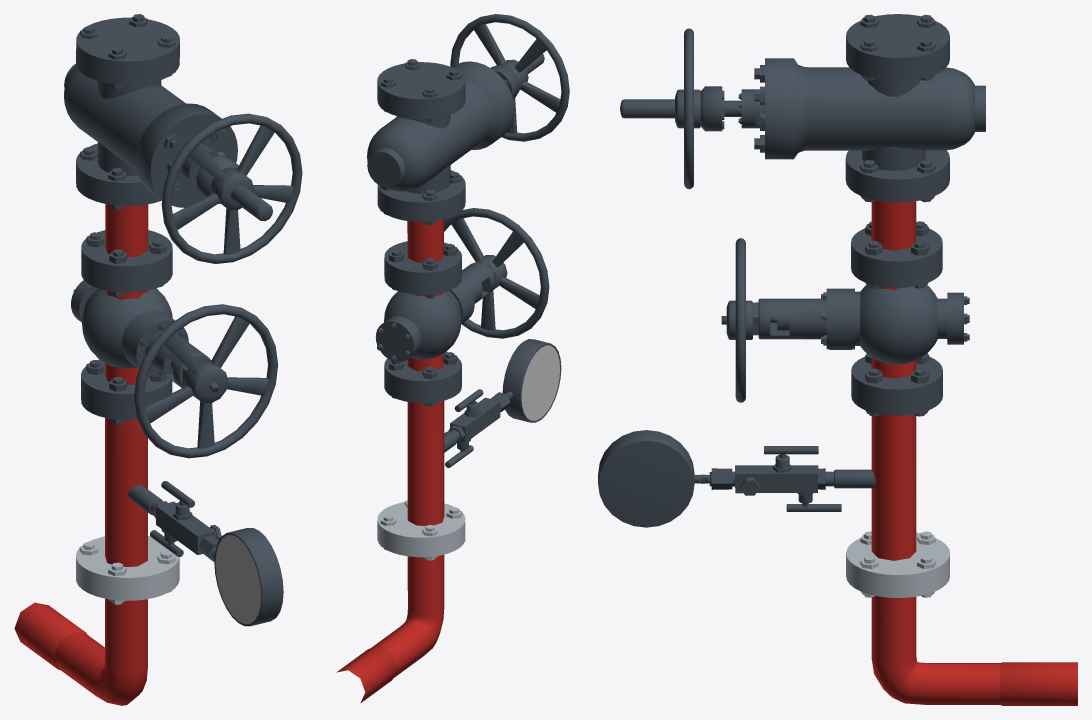
Rendered from 排污管道单体_流动UV.glb.
The picture shows the model from 3 angles, left to right: view 1: azimuth 30°, elevation 25°; view 2: azimuth 150°, elevation 25°; view 3: azimuth 270°, elevation 25°; orthographic projection. The views are drawn at different scales.
Parts seen in each view (by area): view 1: L1_GLQFLQ_01_M10_13, 排污管道_红色, L1_GLQFLQ_01_M11_13, L1_GLQFLQ_01_FM4_13, L1_GLQFLQ_01_FM5_13, L1_GLQFLQ_01_M12_13_1, 法兰与连接件, L1_GLQFLQ_01_M12_13_0; view 2: L1_GLQFLQ_01_M10_13, 排污管道_红色, L1_GLQFLQ_01_M11_13, L1_GLQFLQ_01_FM5_13, L1_GLQFLQ_01_FM4_13, L1_GLQFLQ_01_M12_13_1, 法兰与连接件, L1_GLQFLQ_01_M12_13_0; view 3: L1_GLQFLQ_01_M10_13, L1_GLQFLQ_01_M11_13, 排污管道_红色, L1_GLQFLQ_01_M12_13_1, 法兰与连接件, L1_GLQFLQ_01_FM4_13, L1_GLQFLQ_01_FM5_13.
Boxes of the visible parts, left/top/right/bottom form: L1_GLQFLQ_01_M10_13: left=64, top=14, right=238, bottom=209; 排污管道_红色: left=14, top=204, right=148, bottom=705; L1_GLQFLQ_01_M11_13: left=71, top=230, right=211, bottom=424; L1_GLQFLQ_01_FM4_13: left=161, top=113, right=302, bottom=263; L1_GLQFLQ_01_FM5_13: left=134, top=304, right=277, bottom=458; L1_GLQFLQ_01_M12_13_1: left=128, top=481, right=283, bottom=626; 法兰与连接件: left=76, top=536, right=179, bottom=604; L1_GLQFLQ_01_M12_13_0: left=215, top=535, right=261, bottom=623; L1_GLQFLQ_01_M10_13: left=367, top=59, right=519, bottom=225; 排污管道_红色: left=336, top=219, right=444, bottom=703; L1_GLQFLQ_01_M11_13: left=375, top=241, right=495, bottom=406; L1_GLQFLQ_01_FM5_13: left=444, top=208, right=549, bottom=338; L1_GLQFLQ_01_FM4_13: left=450, top=14, right=569, bottom=141; L1_GLQFLQ_01_M12_13_1: left=444, top=339, right=561, bottom=467; 法兰与连接件: left=377, top=500, right=465, bottom=560; L1_GLQFLQ_01_M12_13_0: left=521, top=345, right=559, bottom=420; L1_GLQFLQ_01_M10_13: left=700, top=14, right=985, bottom=202; L1_GLQFLQ_01_M11_13: left=752, top=221, right=969, bottom=416; 排污管道_红色: left=871, top=200, right=1077, bottom=705; L1_GLQFLQ_01_M12_13_1: left=598, top=430, right=875, bottom=527; 法兰与连接件: left=846, top=531, right=949, bottom=597; L1_GLQFLQ_01_FM4_13: left=620, top=28, right=700, bottom=189; L1_GLQFLQ_01_FM5_13: left=721, top=238, right=752, bottom=402.
Bounding box in the file's own units: 0.078 × 0.353 × 0.2265.
